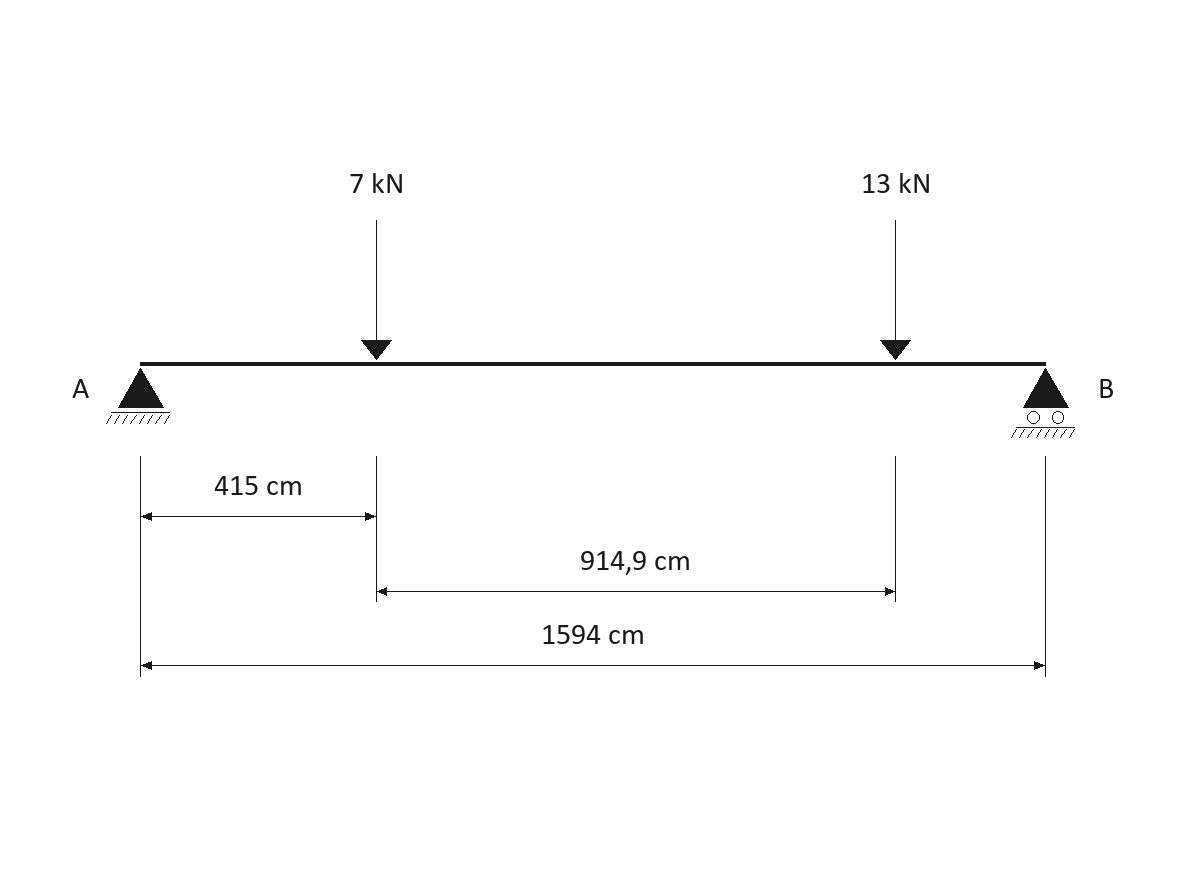pin_support: (106, 368, 170, 424)
point_load: (361, 220, 392, 360), (880, 220, 911, 360)
roller_support: (1011, 368, 1075, 438)
